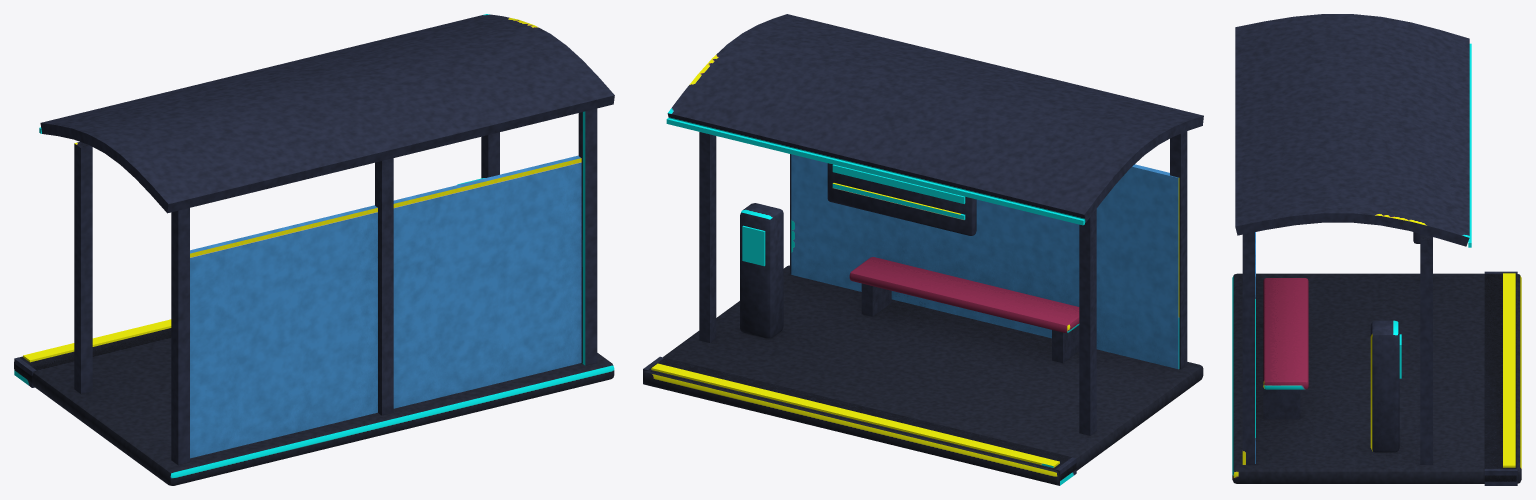
The model's file is maglev_stop.fbx.
3 renders of one model, left to right at view 1: azimuth 30°, elevation 25°; view 2: azimuth 150°, elevation 25°; view 3: azimuth 270°, elevation 25°, orthographic. The views are drawn at different scales.
Visible parts, largest first — view 1: maglev_stop, maglev_stop_glow2; view 2: maglev_stop, maglev_stop_glow, maglev_stop_glow2; view 3: maglev_stop, maglev_stop_glow2, maglev_stop_glow.
Boxes of the visible parts, bbox=[...] form: maglev_stop: bbox=[14, 14, 614, 485]; maglev_stop_glow2: bbox=[23, 319, 171, 362]; maglev_stop: bbox=[643, 14, 1203, 485]; maglev_stop_glow: bbox=[666, 118, 1084, 266]; maglev_stop_glow2: bbox=[651, 183, 1059, 467]; maglev_stop: bbox=[1232, 14, 1521, 485]; maglev_stop_glow2: bbox=[1503, 273, 1515, 467]; maglev_stop_glow: bbox=[1399, 43, 1471, 378].
Size of the model in its own units: 1140 by 727 by 700.
1 material, 1 textured.
